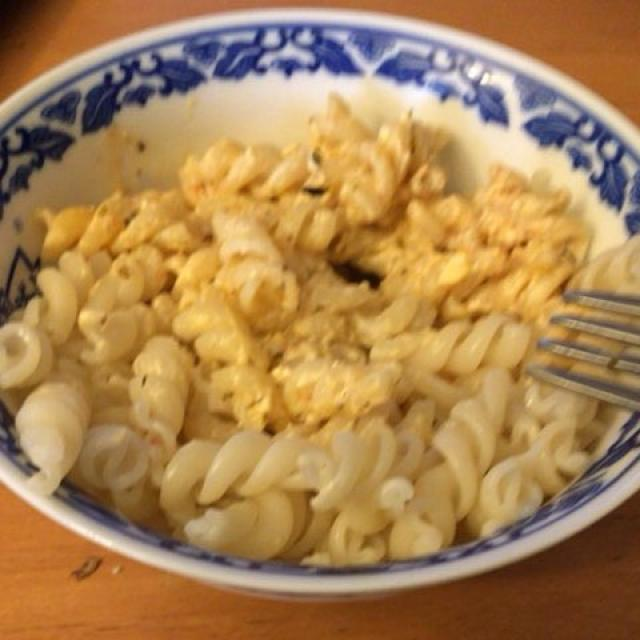pasta-twist: (2, 144, 623, 547)
